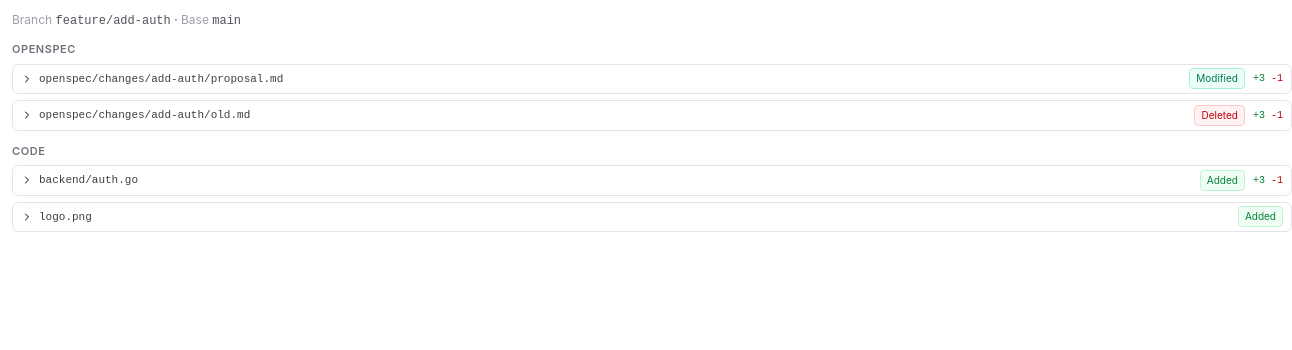
Test: ReviewTab › unfolds a diff on demand and folds it back
This screenshot has width=1292, height=350.
Click the button "backend/auth.go" at (89, 180), box [13,166,1192,194]
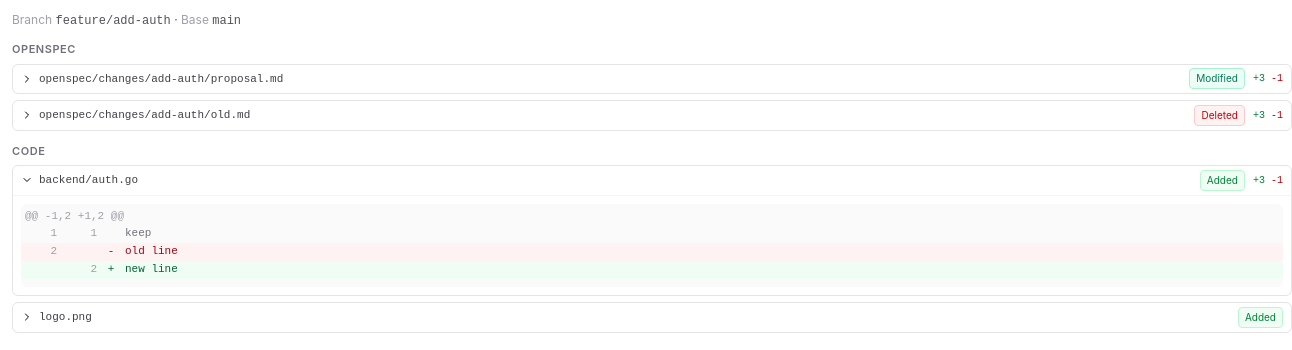
Check: the text "new line" is shown, box [125,261,178,279]
Click the button "backend/auth.go" at (89, 180), box [13,166,1192,194]
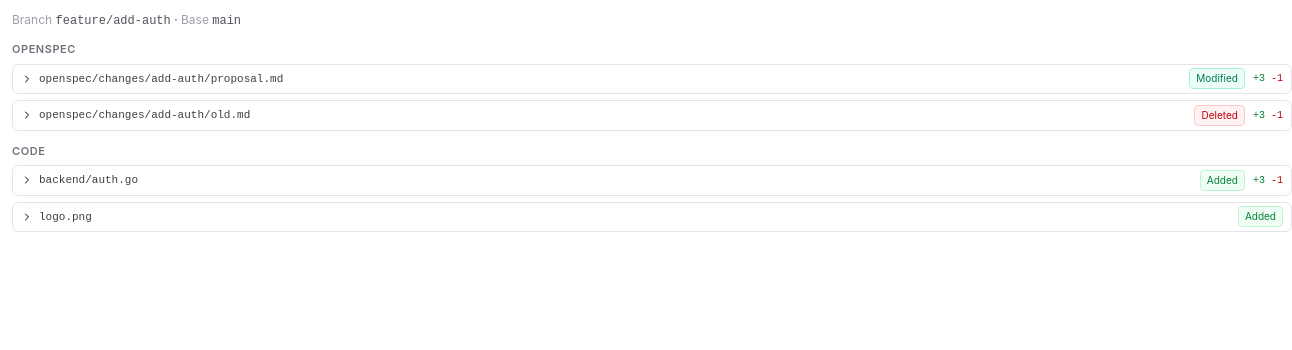
Check: the text "new line" is gone
